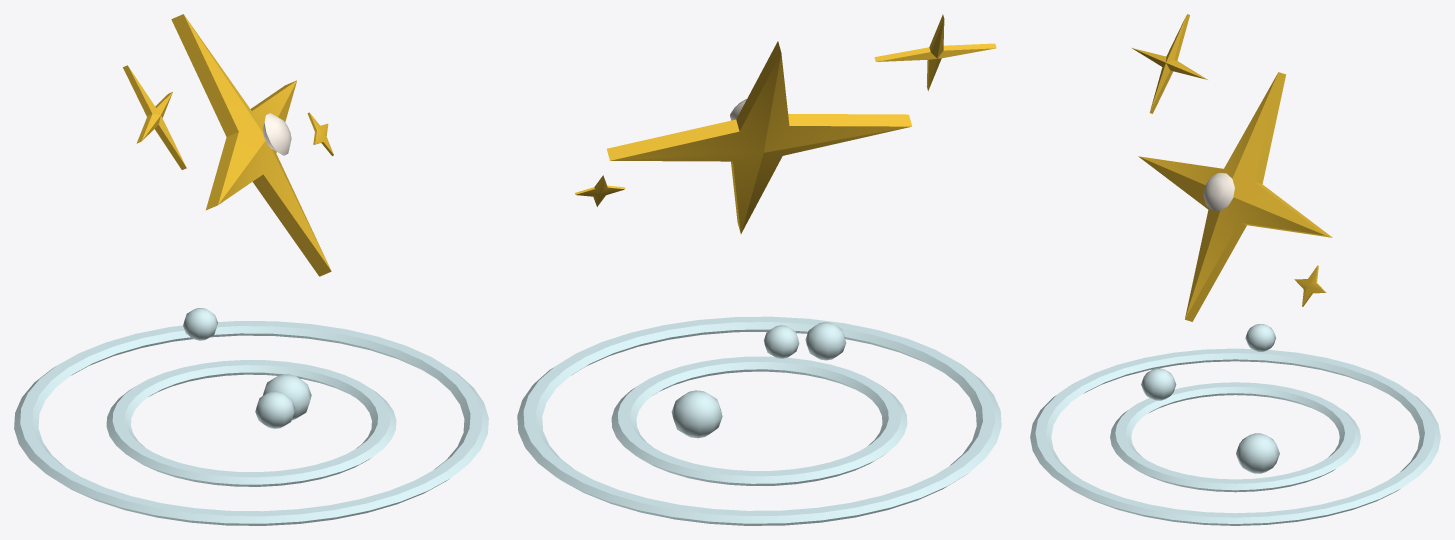
The model's file is secreto.glb.
The picture shows the model from 3 angles, left to right: view 1: azimuth 30°, elevation 25°; view 2: azimuth 150°, elevation 25°; view 3: azimuth 270°, elevation 25°; orthographic projection. The views are drawn at different scales.
Parts seen in each view (by area): view 1: mascota__secreto__005, mascota__secreto__004, mascota__secreto__000, mascota__secreto__002, mascota__secreto__007, mascota__secreto__006, mascota__secreto__008, mascota__secreto__001; view 2: mascota__secreto__005, mascota__secreto__000, mascota__secreto__004, mascota__secreto__006, mascota__secreto__002, mascota__secreto__007, mascota__secreto__008; view 3: mascota__secreto__005, mascota__secreto__000, mascota__secreto__004, mascota__secreto__006, mascota__secreto__002, mascota__secreto__001, mascota__secreto__007, mascota__secreto__008, mascota__secreto__003.
Part boxes in pixels (left/top/right/bottom): mascota__secreto__005: left=14, top=321, right=488, bottom=525; mascota__secreto__004: left=106, top=360, right=396, bottom=486; mascota__secreto__000: left=171, top=14, right=331, bottom=276; mascota__secreto__002: left=123, top=65, right=186, bottom=169; mascota__secreto__007: left=255, top=391, right=295, bottom=428; mascota__secreto__006: left=262, top=374, right=311, bottom=420; mascota__secreto__008: left=183, top=308, right=217, bottom=340; mascota__secreto__001: left=262, top=113, right=291, bottom=155; mascota__secreto__005: left=517, top=316, right=1001, bottom=525; mascota__secreto__000: left=607, top=41, right=912, bottom=233; mascota__secreto__004: left=611, top=356, right=907, bottom=485; mascota__secreto__006: left=671, top=390, right=722, bottom=438; mascota__secreto__002: left=874, top=14, right=996, bottom=91; mascota__secreto__007: left=805, top=322, right=846, bottom=360; mascota__secreto__008: left=763, top=325, right=799, bottom=358; mascota__secreto__005: left=1030, top=348, right=1440, bottom=525; mascota__secreto__000: left=1138, top=72, right=1332, bottom=321; mascota__secreto__004: left=1110, top=382, right=1360, bottom=492; mascota__secreto__006: left=1236, top=433, right=1279, bottom=473; mascota__secreto__002: left=1132, top=14, right=1207, bottom=113; mascota__secreto__001: left=1203, top=173, right=1234, bottom=210; mascota__secreto__007: left=1141, top=368, right=1176, bottom=400; mascota__secreto__008: left=1245, top=324, right=1275, bottom=351; mascota__secreto__003: left=1294, top=265, right=1326, bottom=306.
Bounding box in the file's own units: 0.93 × 0.9323 × 0.93.
